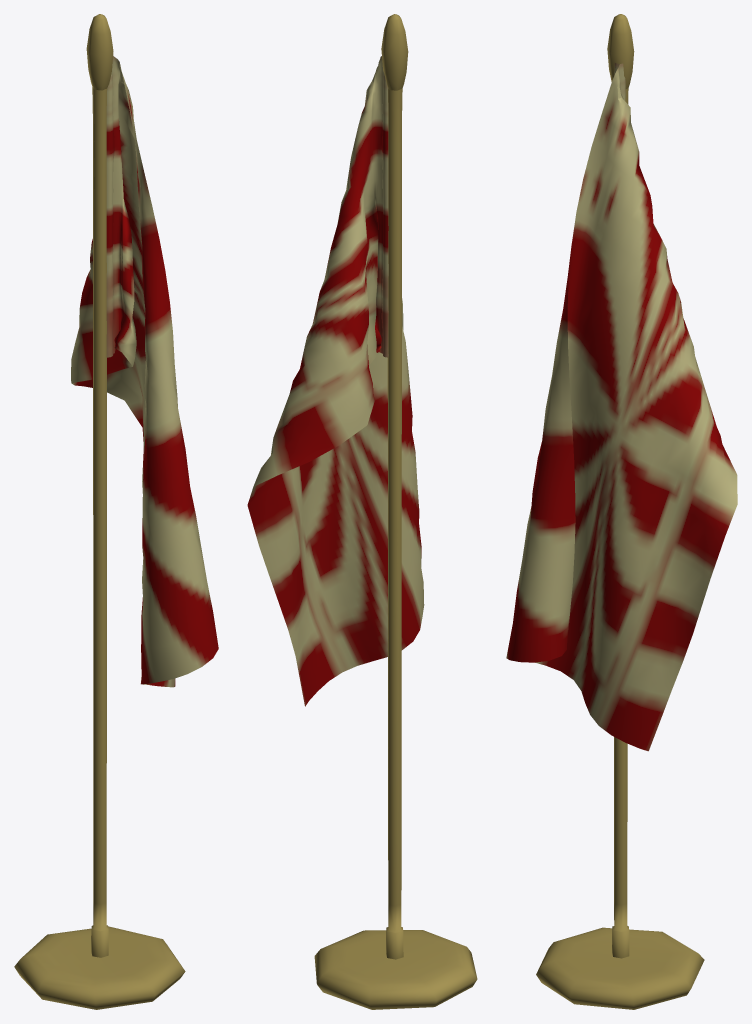
The model's file is Flag.fbx.
The picture shows the model from 3 angles, left to right: view 1: azimuth 30°, elevation 25°; view 2: azimuth 150°, elevation 25°; view 3: azimuth 270°, elevation 25°; orthographic projection.
Parts seen in each view (by area): view 1: Flag; view 2: Flag; view 3: Flag.
Boxes of the visible parts, x1,y1,x2,y2 form: Flag: (14,14,218,1009); Flag: (247,14,477,1009); Flag: (506,14,737,1009).
Bounding box in the file's own units: 0.5867 × 3.23 × 0.703.
